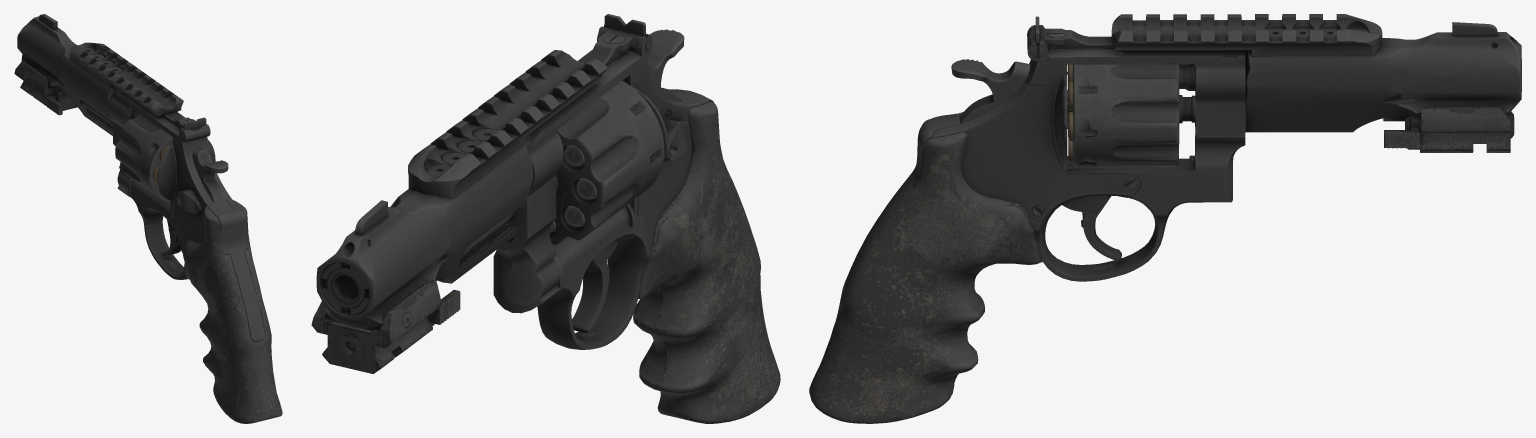
File: revolver_r.glb
3 renders of one model, left to right at view 1: azimuth 30°, elevation 25°; view 2: azimuth 150°, elevation 25°; view 3: azimuth 270°, elevation 25°, orthographic. The views are drawn at different scales.
Visible parts, largest first — view 1: v_revolver_R; view 2: v_revolver_R; view 3: v_revolver_R.
Part boxes in pixels (bbox=[...]): v_revolver_R: bbox=[14, 14, 282, 423]; v_revolver_R: bbox=[311, 14, 780, 423]; v_revolver_R: bbox=[809, 14, 1521, 423].
Size of the model in its own units: 0.0502 by 0.1818 by 0.3043.
1 material, 1 textured.
